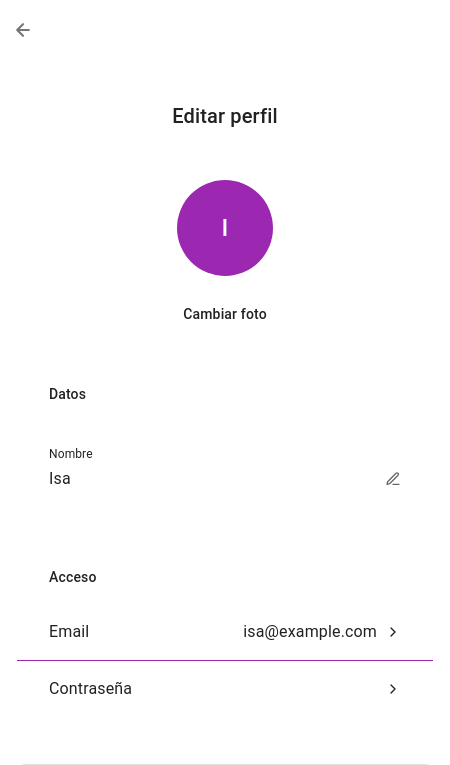
Test: Given the edit profile screen › When the server rejects the name › Then its message is shown under the field
The width and height of the screenshot is (450, 765).
In the field labelled "Nombre": (209, 479) [49, 463, 369, 495], type "a"
(page scrolled)
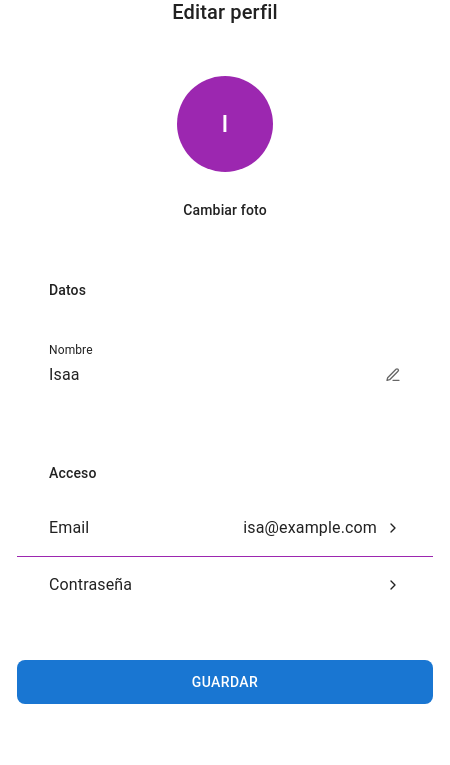
Click the button "Guardar": click(225, 682) [17, 660, 433, 704]
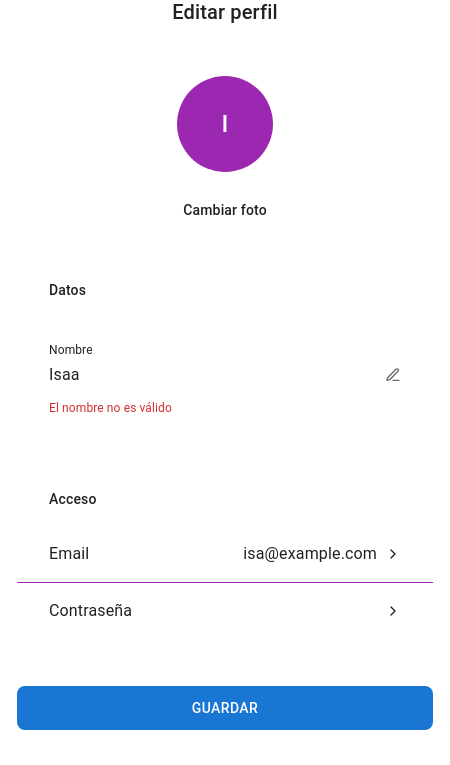
Expected: the text "El nombre no es válido" is shown, [49, 401, 172, 415]
